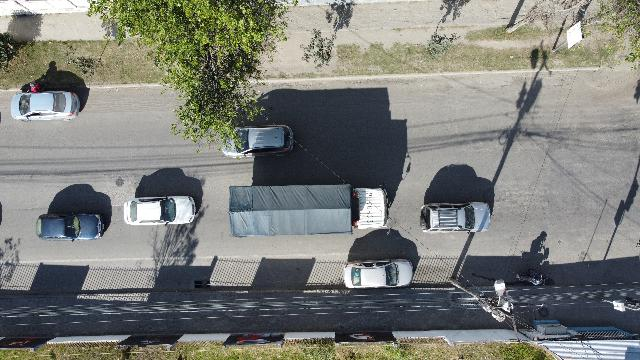Vehiculo: (221, 125, 293, 159), (124, 195, 196, 225), (343, 259, 413, 289), (420, 202, 490, 232), (10, 91, 80, 121), (36, 214, 104, 240)
